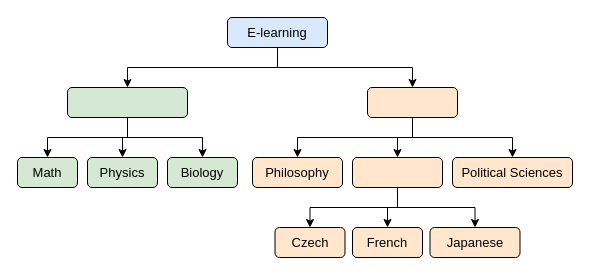
Some shapes in this 590 by 275 pixel diagram are drawn without their labels. The shapes that lost their labels are listed below. From the top down, each one's centre as x and y in pixels, then its label:
pixel 127 102: Natural Sciences
pixel 412 102: Humanities
pixel 397 172: Languages
